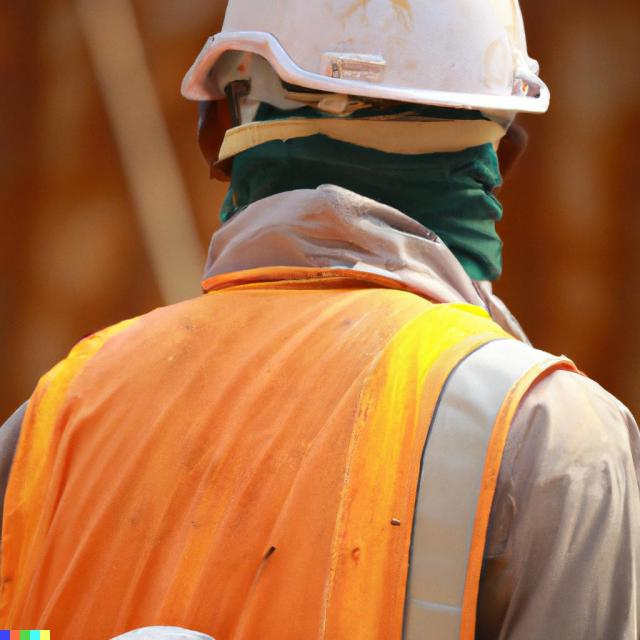Reflective-Jacket: (0, 275, 601, 638)
Safety-Helmet: (182, 0, 546, 116)
